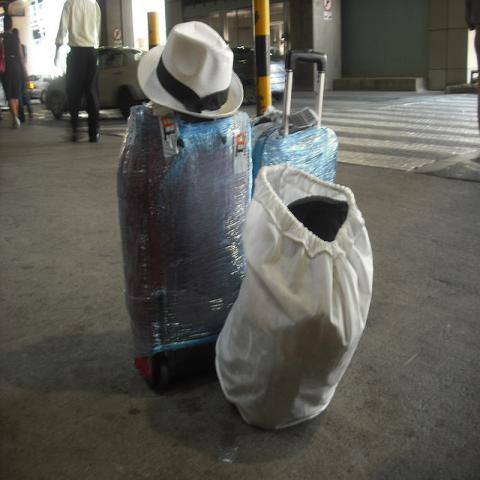car: (46, 46, 148, 118), (230, 47, 286, 104)
